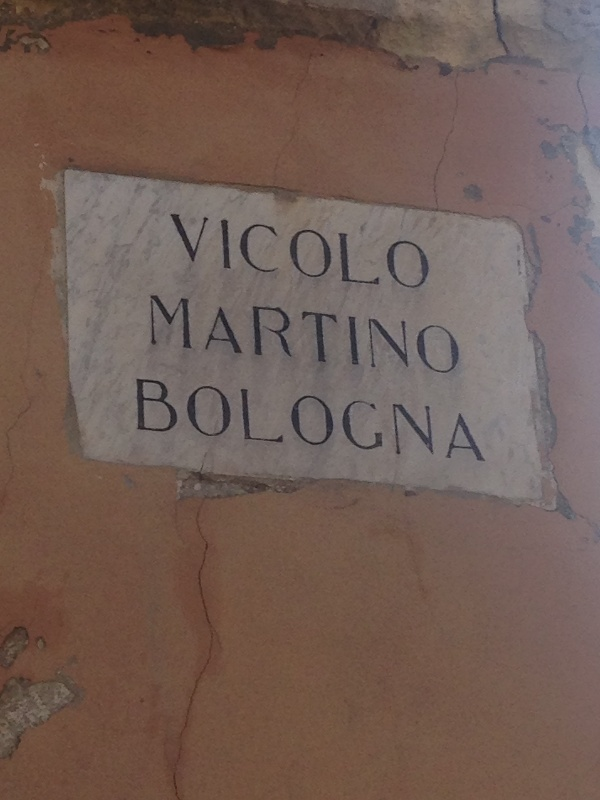text: (161, 289, 176, 381), (177, 289, 192, 381), (193, 289, 208, 381), (209, 289, 224, 381), (225, 289, 240, 381), (241, 289, 256, 381), (257, 289, 272, 381), (273, 289, 288, 381), (289, 289, 304, 381), (305, 289, 320, 381), (321, 289, 336, 381), (337, 289, 352, 381), (353, 289, 368, 381), (369, 289, 384, 381), (385, 289, 400, 381), (401, 289, 416, 381), (417, 289, 432, 381), (433, 289, 448, 381), (449, 289, 464, 381), (145, 377, 160, 463), (161, 377, 176, 463), (177, 377, 192, 463), (193, 377, 208, 463), (209, 377, 224, 463), (225, 377, 240, 463), (241, 377, 256, 463), (257, 377, 272, 463), (273, 377, 288, 463), (289, 377, 304, 463), (305, 377, 320, 463), (321, 377, 336, 463), (337, 377, 352, 463), (353, 377, 368, 463), (369, 377, 384, 463), (385, 377, 400, 463), (401, 377, 416, 463), (417, 377, 432, 463), (433, 377, 448, 463), (449, 377, 464, 463), (465, 377, 480, 463), (177, 210, 192, 295), (193, 210, 208, 295), (209, 210, 224, 295), (225, 210, 240, 295), (241, 210, 256, 295), (257, 210, 272, 295), (273, 210, 288, 295), (289, 210, 304, 295), (305, 210, 320, 295), (321, 210, 336, 295), (337, 210, 352, 295), (353, 210, 368, 295), (369, 210, 384, 295), (385, 210, 400, 295), (401, 210, 416, 295), (417, 210, 431, 295), (148, 289, 160, 381), (134, 377, 144, 463), (167, 210, 176, 295), (481, 377, 486, 463), (465, 289, 466, 381)
